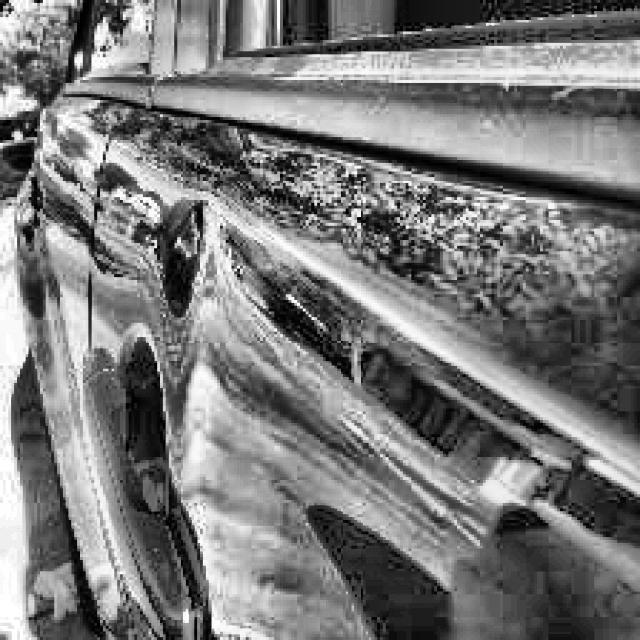door_dent: (148, 204, 225, 316)
